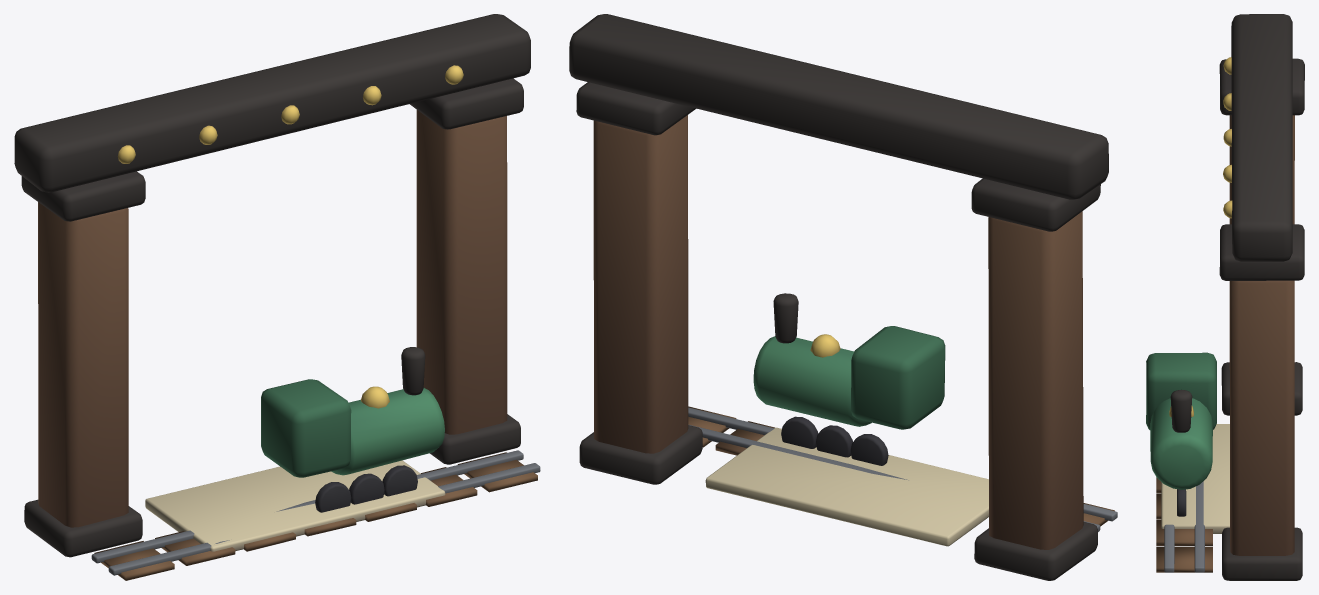
The picture shows the model from 3 angles, left to right: view 1: azimuth 30°, elevation 25°; view 2: azimuth 150°, elevation 25°; view 3: azimuth 270°, elevation 25°; orthographic projection. The views are drawn at different scales.
Parts seen in each view (by area): view 1: gate_05b3e4c8; view 2: gate_05b3e4c8; view 3: gate_05b3e4c8.
Part boxes in pixels (left/top/right/bottom): gate_05b3e4c8: left=14, top=14, right=540, bottom=580; gate_05b3e4c8: left=569, top=14, right=1117, bottom=580; gate_05b3e4c8: left=1146, top=14, right=1304, bottom=580.
Size of the model in its own units: 5.03 by 4.01 by 1.57.
